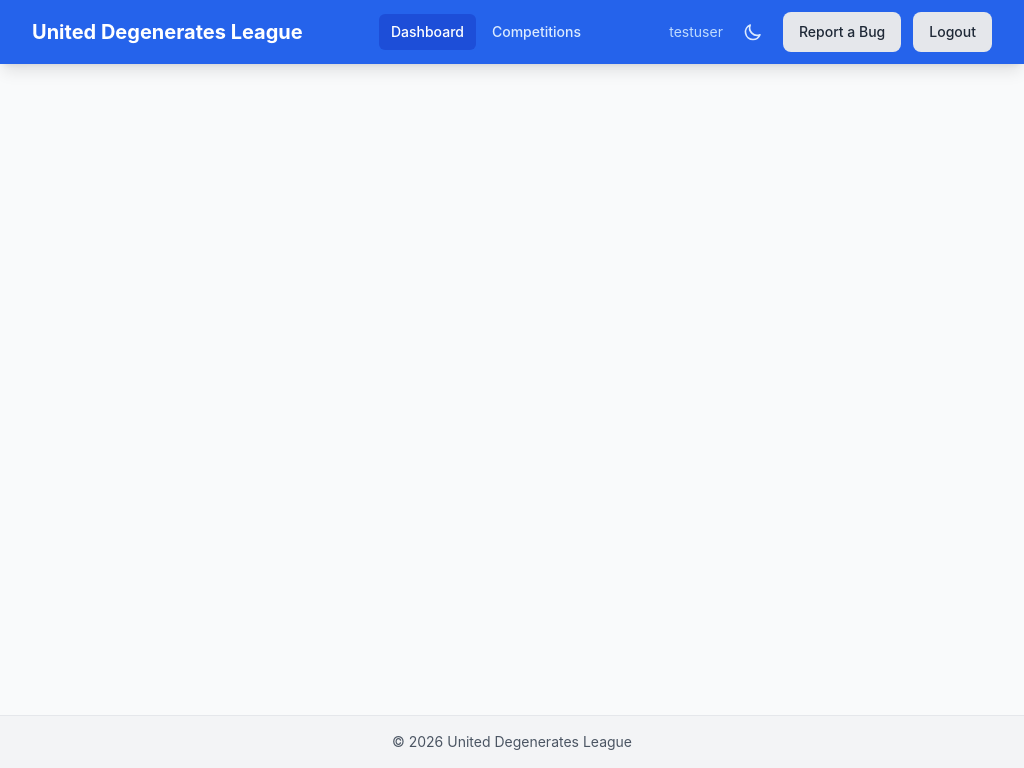
Test: Layout — bug report modal › opens the modal when Report a Bug is clicked
Expected: the field labelled "title" is not shown
Click the button "Report a Bug" at (842, 32), box [783,12,901,52]
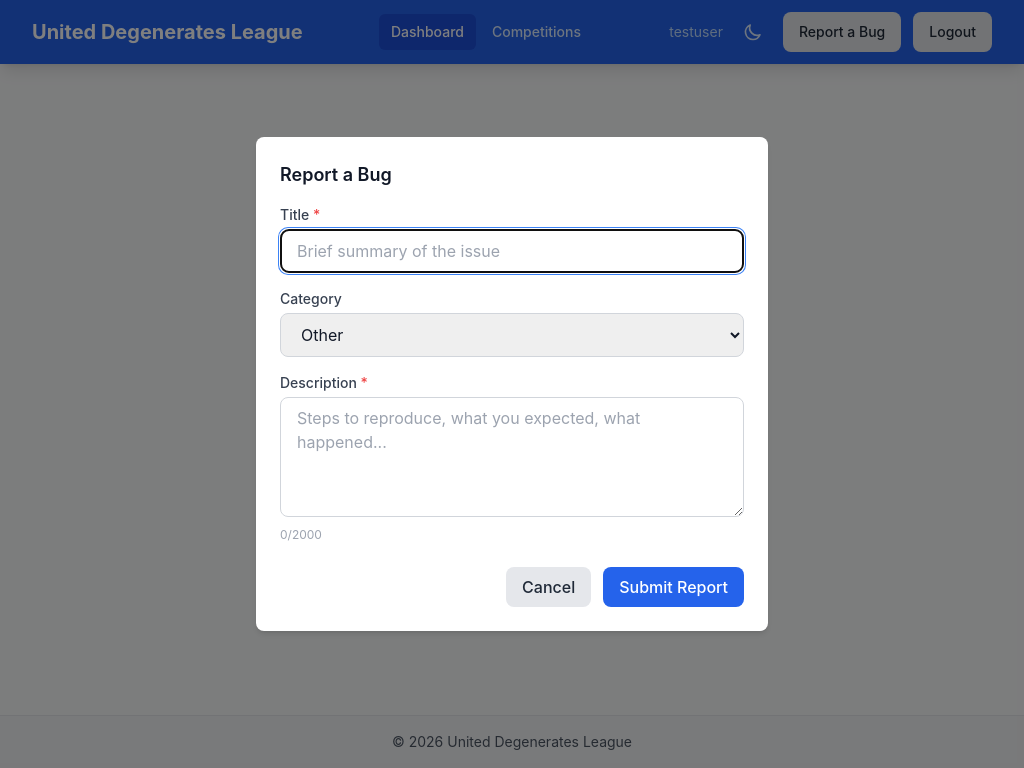
Now the field labelled "Title *" is shown, box [280,229,744,273]
